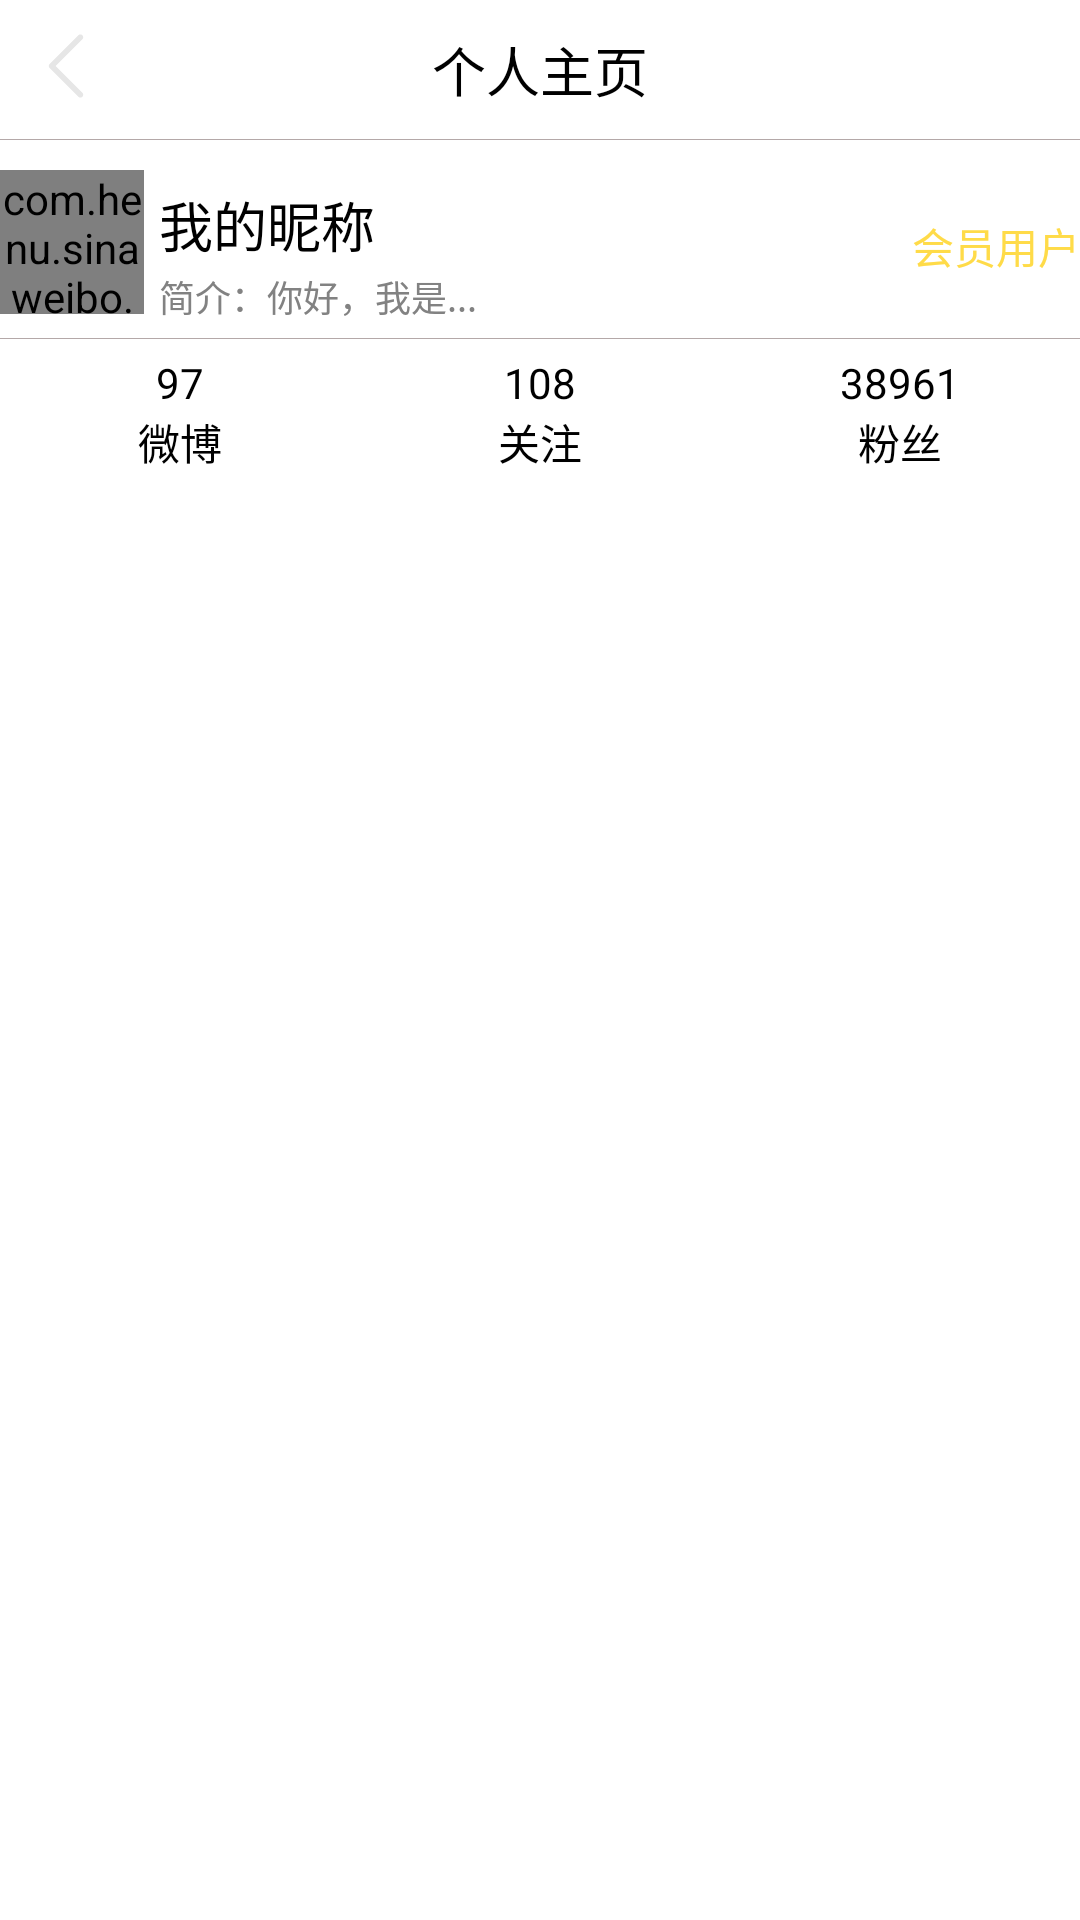

Locate icon controls on the screen. Image size 1080 × 1920, boxes as box(x1, y1, x2, y2).
back: box(49, 35, 83, 97)
